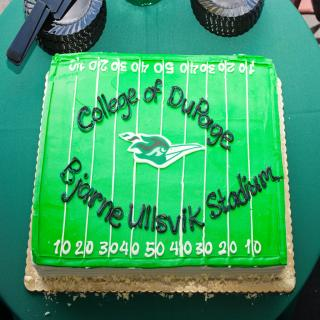Cake: (29, 50, 288, 287)
